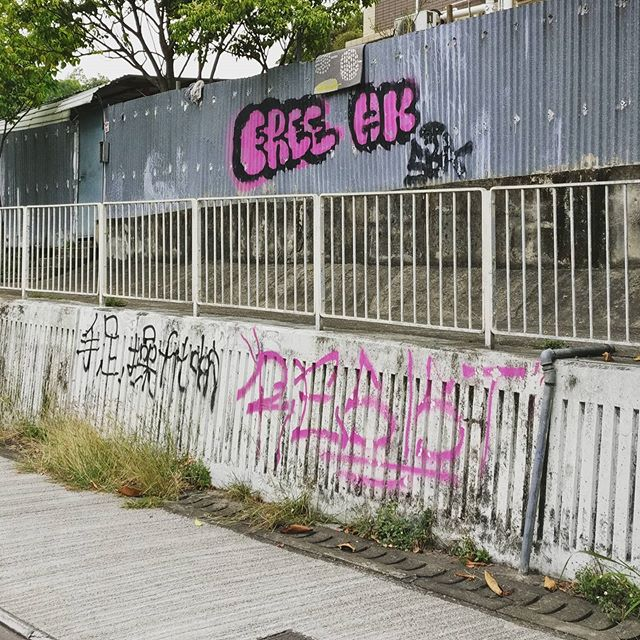graffiti: (62, 306, 538, 512), (224, 64, 497, 190)
